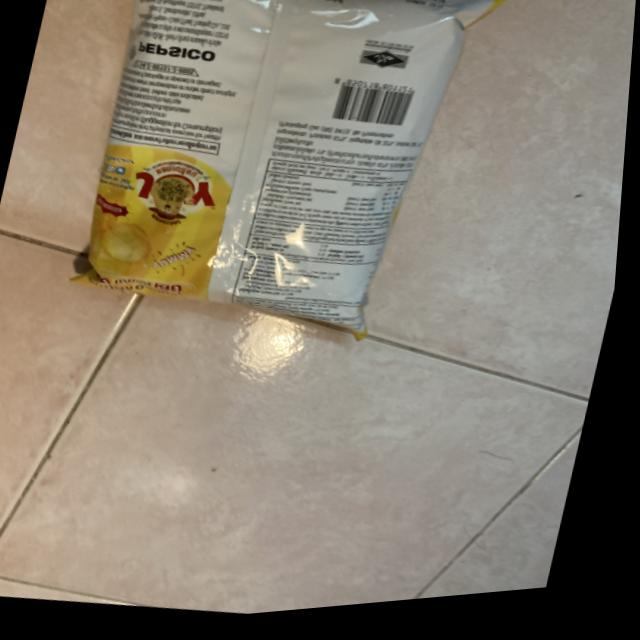LayYellow: (25, 0, 462, 391)
